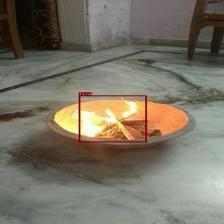fire: (78, 95, 146, 142)
